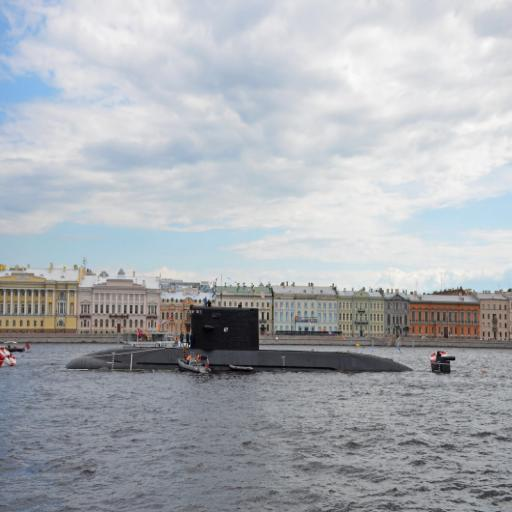submarine: (68, 303, 454, 376)
